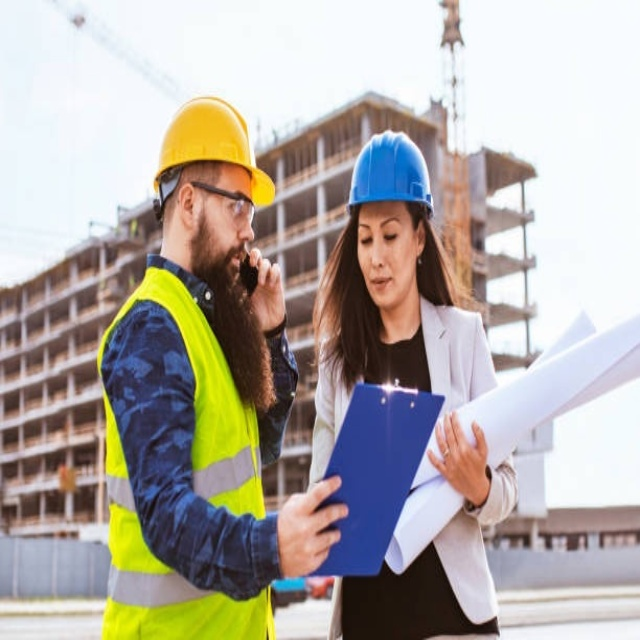Gafas: (179, 179, 258, 232)
Sin_gafas: (355, 216, 403, 256)
Sin_guantes: (275, 477, 350, 582), (427, 413, 491, 507), (244, 249, 288, 331)
Sin_mascara: (212, 237, 249, 284), (364, 267, 397, 304)
